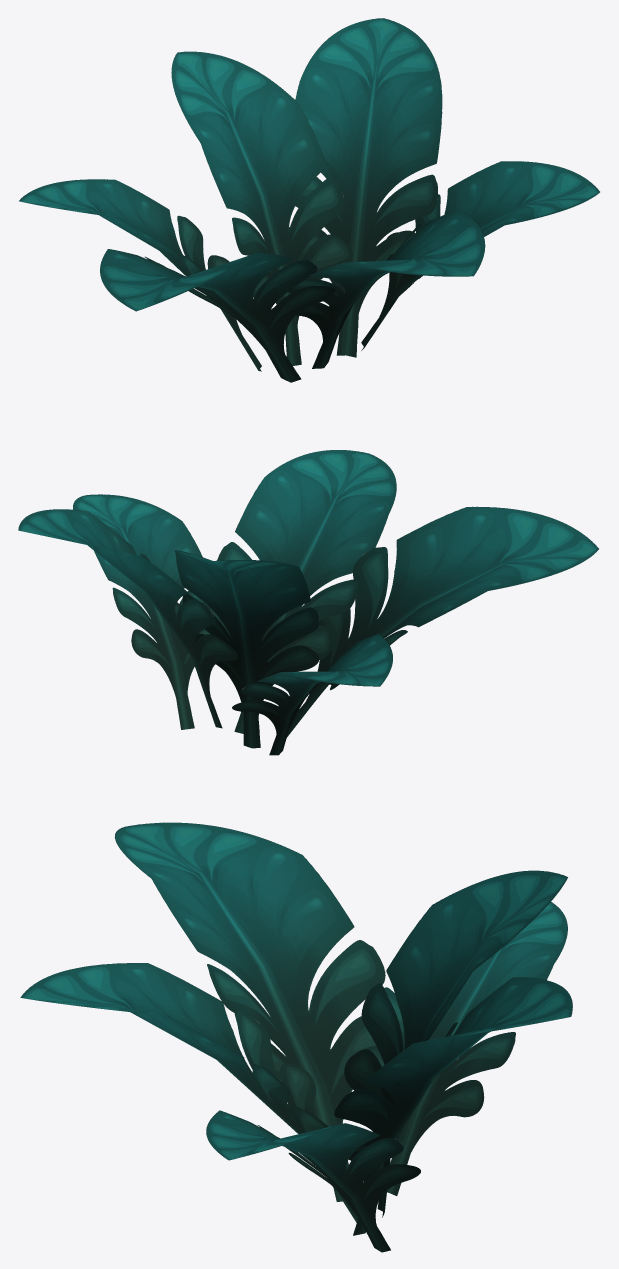
The model's file is Grass5.FBX.
3 views of the same model, one above another, from view 1: azimuth 30°, elevation 25°; view 2: azimuth 150°, elevation 25°; view 3: azimuth 270°, elevation 25° (orthographic). The views are drawn at different scales.
Visible parts, largest first — view 1: Grass5; view 2: Grass5; view 3: Grass5.
Part boxes in pixels (x1,y1,x2,y2): Grass5: (19,18,599,382); Grass5: (18,450,598,755); Grass5: (20,822,572,1252).
Size of the model in its own units: 49.71 by 23.48 by 39.57.
